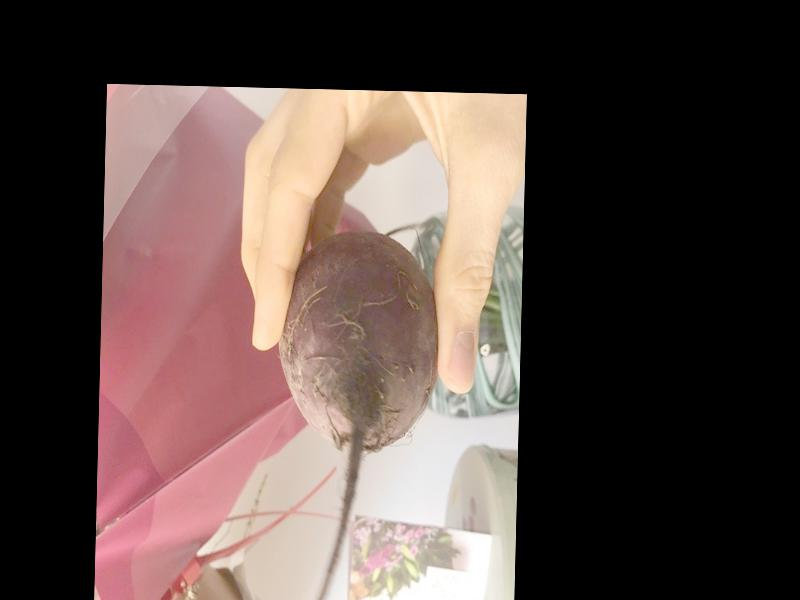Beet: (271, 223, 441, 600)
